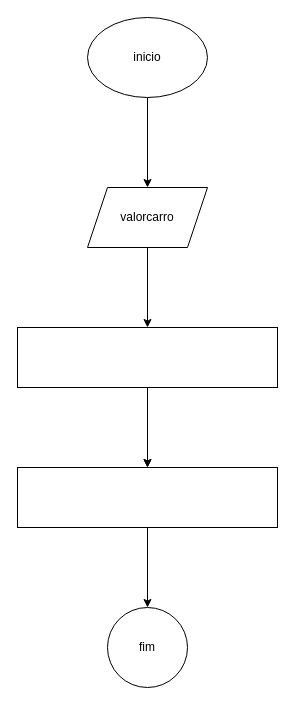
This 295x705 diagram has some shape labels left out. Here are the shapes that lost their labels. From the top down, the centre of each, then its label:
At [147,357]: "impostostrib = valorcarro*45/100".
At [147,497]: "valorfinal = impostotrib*28/100".
